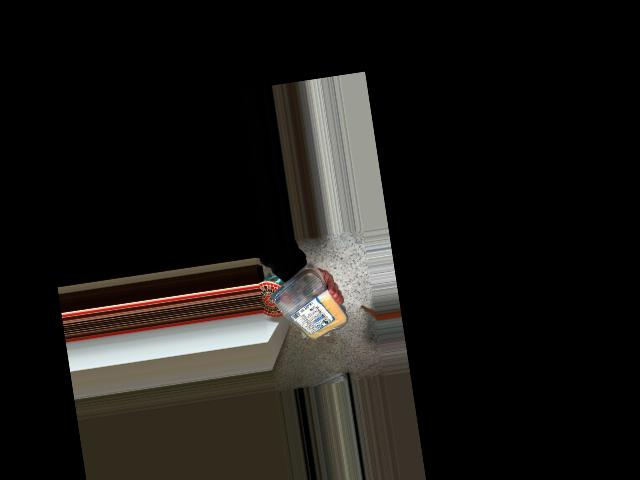cheese: (270, 270, 341, 347)
